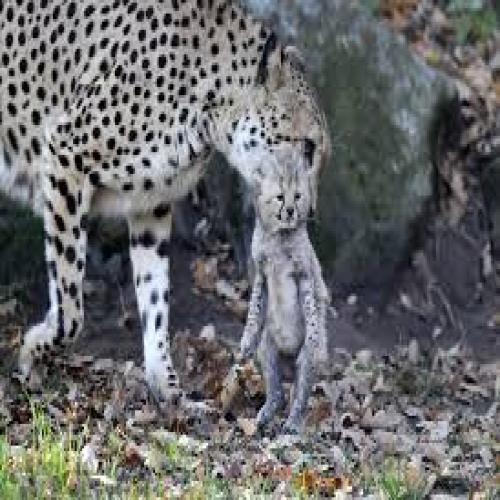cheetah-endangered: (1, 0, 329, 407), (242, 148, 326, 420)
